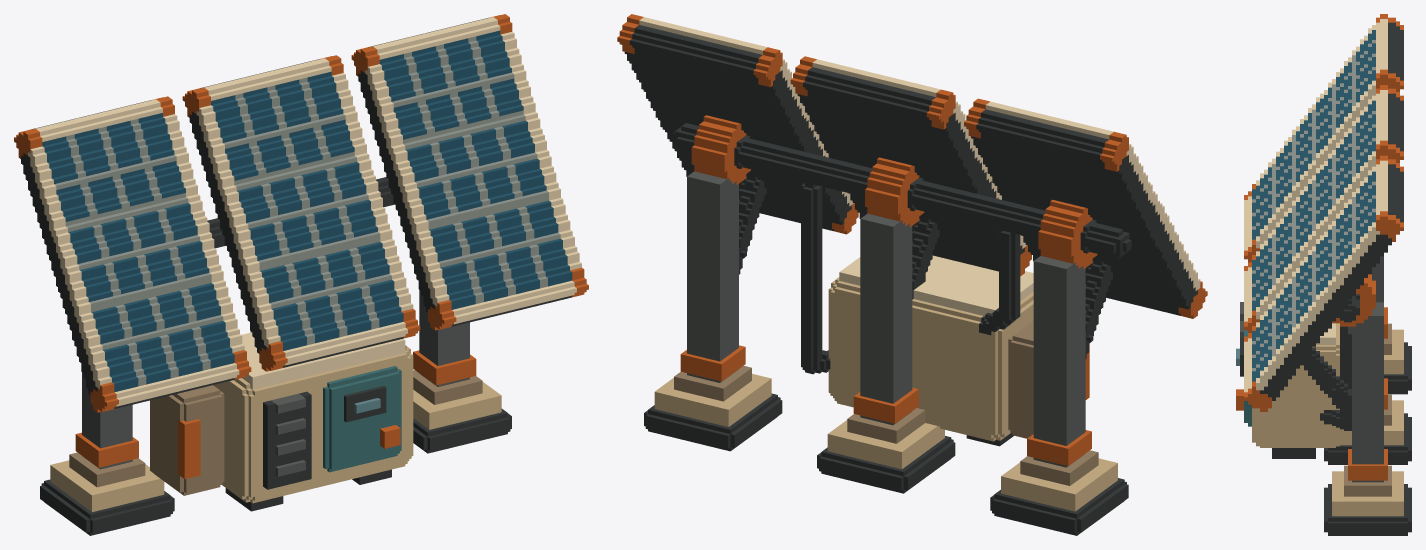
File: solar_array.glb
3 views of the same model, side by side, from view 1: azimuth 30°, elevation 25°; view 2: azimuth 150°, elevation 25°; view 3: azimuth 270°, elevation 25° (orthographic). The views are drawn at different scales.
Visible parts, largest first — view 1: solar_array; view 2: solar_array; view 3: solar_array.
Part boxes in pixels (bbox=[...]): solar_array: bbox=[14, 14, 588, 535]; solar_array: bbox=[617, 14, 1207, 535]; solar_array: bbox=[1236, 14, 1411, 535].
Bounding box in the file's own units: 5.4 × 4.14 × 1.98.
